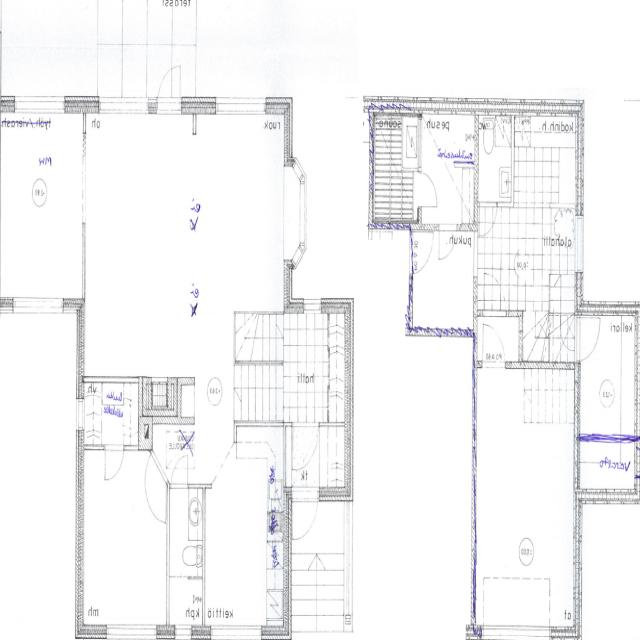door: (136, 451, 168, 510), (293, 487, 318, 551), (157, 54, 181, 114), (293, 422, 318, 473), (576, 318, 603, 360), (483, 319, 506, 368), (484, 268, 506, 316), (440, 224, 458, 264), (418, 172, 439, 206), (106, 446, 124, 484), (480, 203, 497, 240), (172, 454, 188, 488), (635, 447, 640, 476)
